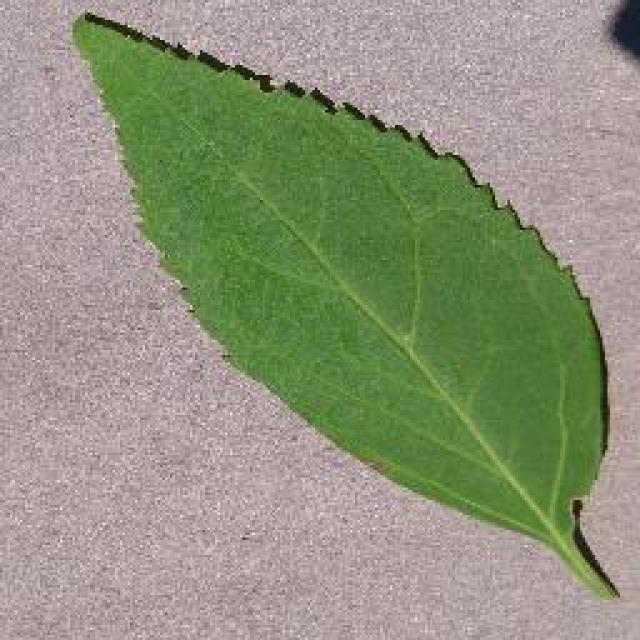Cherry___healthy: (60, 5, 628, 620)
